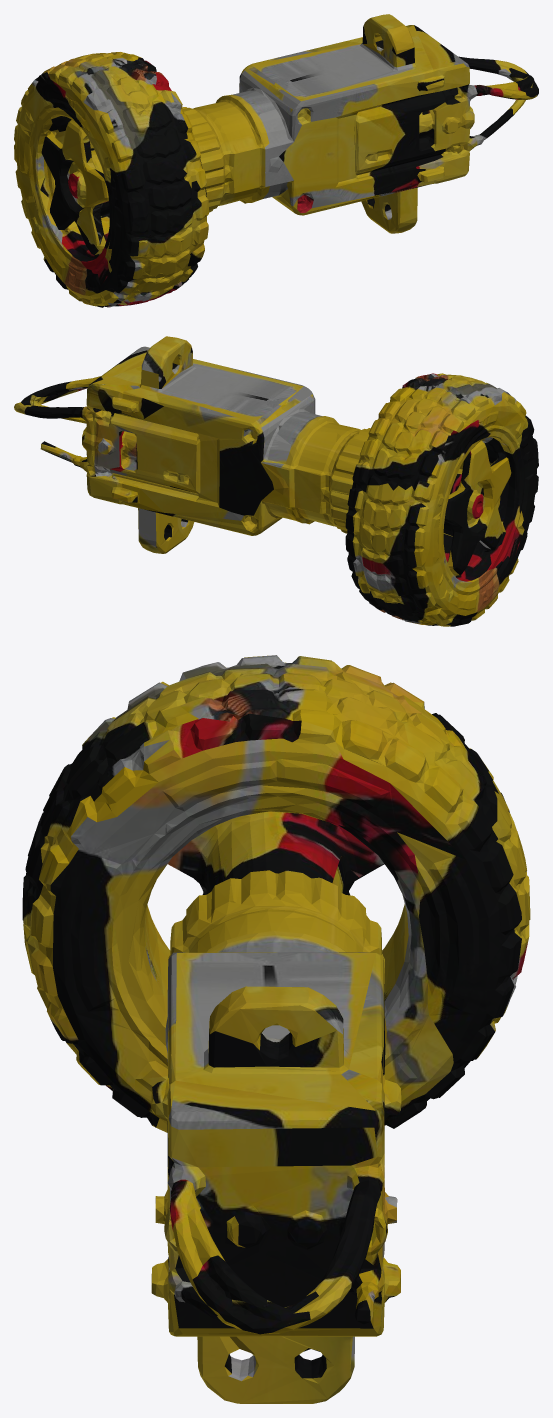
File: gearmotor-wheel.glb
3 views of the same model, one above another, from view 1: azimuth 30°, elevation 25°; view 2: azimuth 150°, elevation 25°; view 3: azimuth 270°, elevation 25° (orthographic). The views are drawn at different scales.
Visible parts, largest first — view 1: Omega1_part_DC_gearmotor_with_wheel; view 2: Omega1_part_DC_gearmotor_with_wheel; view 3: Omega1_part_DC_gearmotor_with_wheel.
Part boxes in pixels (x1=…): Omega1_part_DC_gearmotor_with_wheel: x1=14, y1=14, x2=538, y2=307; Omega1_part_DC_gearmotor_with_wheel: x1=14, y1=336, x2=538, y2=626; Omega1_part_DC_gearmotor_with_wheel: x1=22, y1=655, x2=530, y2=1403.
Bounding box in the file's own units: 0.1099 × 0.052 × 0.0523.
1 material, 1 textured.
